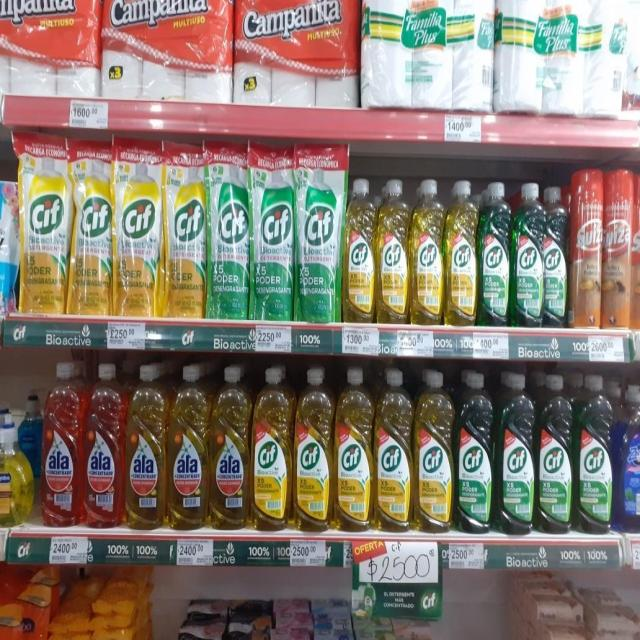ala_conc_amarillo: (167, 362, 209, 530), (125, 362, 166, 531), (210, 363, 250, 530)
ala_conc_rojo: (42, 360, 83, 528), (84, 361, 124, 529)
cif_conc_bot_amarilla: (251, 365, 292, 531), (415, 369, 454, 533), (294, 365, 332, 531), (335, 366, 373, 532), (375, 368, 413, 532), (410, 178, 444, 326), (445, 178, 477, 327), (376, 176, 408, 324), (344, 177, 374, 324)
cif_conc_botella_verde: (496, 371, 535, 535), (575, 374, 614, 536), (456, 370, 494, 535), (537, 373, 573, 535), (479, 180, 510, 328), (512, 181, 543, 328), (544, 184, 568, 328)
cif_conc_sachet_amarillo: (20, 133, 69, 315), (114, 139, 161, 318), (163, 142, 206, 320), (70, 138, 112, 317)
cif_conc_sachet_verde: (296, 144, 342, 322), (208, 141, 250, 320), (252, 143, 294, 321)
zorro: (616, 383, 640, 534)
